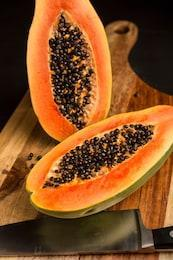papaya: (26, 103, 171, 219), (23, 1, 111, 142)
